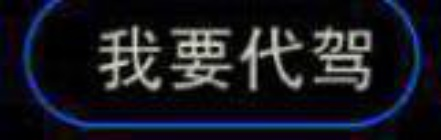Button: (1, 1, 440, 139)
